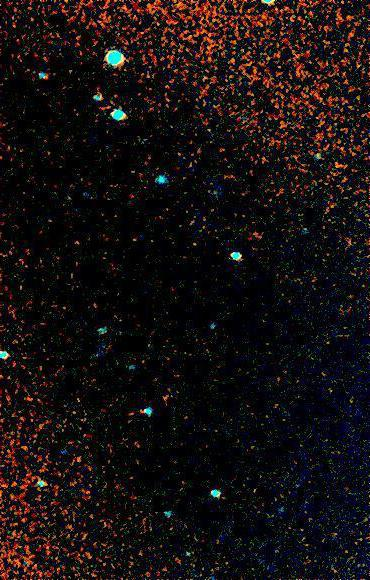star: (127, 398, 157, 428)
